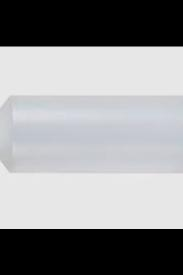Plastic: (0, 91, 182, 179)
